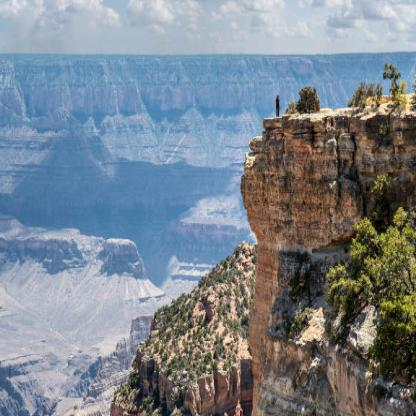Sedimentary_Sandstone: (244, 114, 416, 197), (255, 220, 326, 410)
